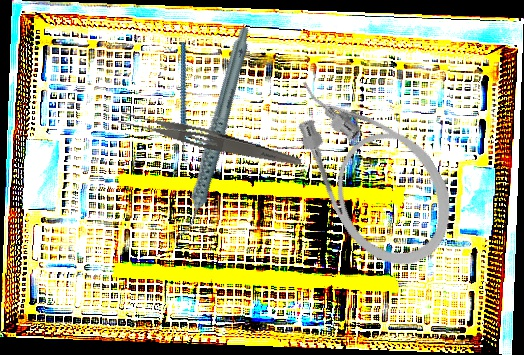Cannula: (271, 46, 474, 287)
Chopper: (143, 41, 229, 167)
Dressing Forceps: (117, 107, 304, 170)
Handpiece: (135, 23, 292, 242)
